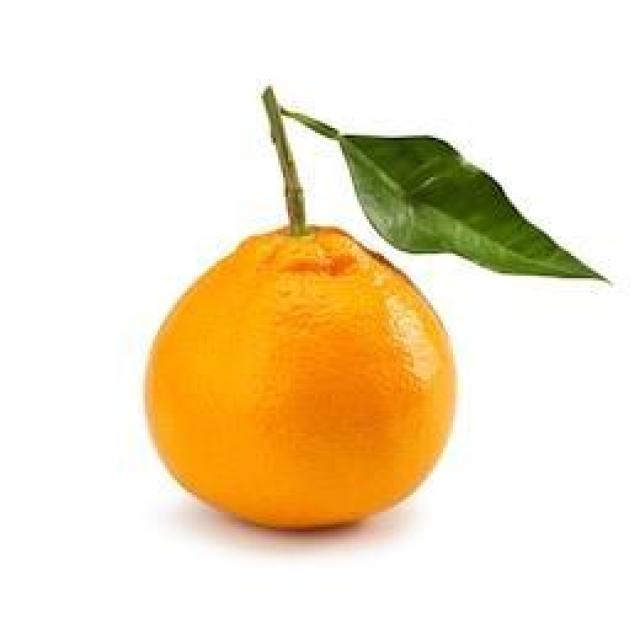orange: (142, 218, 456, 530)
